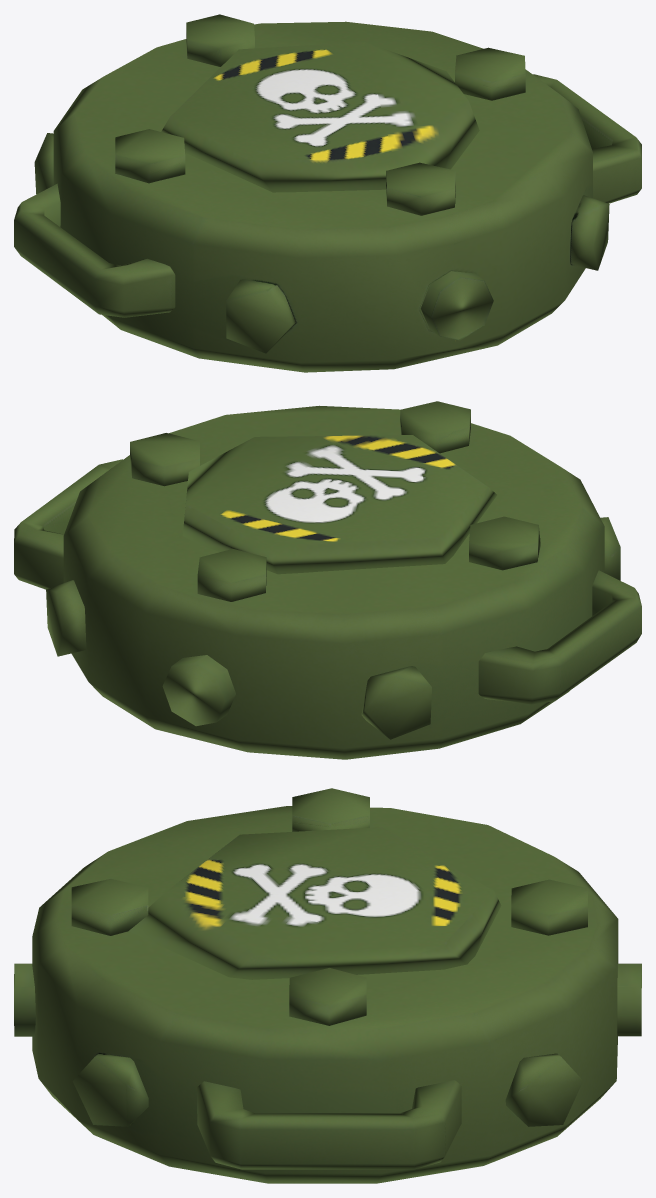
Rendered from skull-mine.glb.
The picture shows the model from 3 angles, top to bottom: view 1: azimuth 30°, elevation 25°; view 2: azimuth 150°, elevation 25°; view 3: azimuth 270°, elevation 25°; orthographic projection. The views are drawn at different scales.
Size of the model in its own units: 0.9453 by 0.2666 by 0.8633.
Materials: 1 (1 with a texture image).
